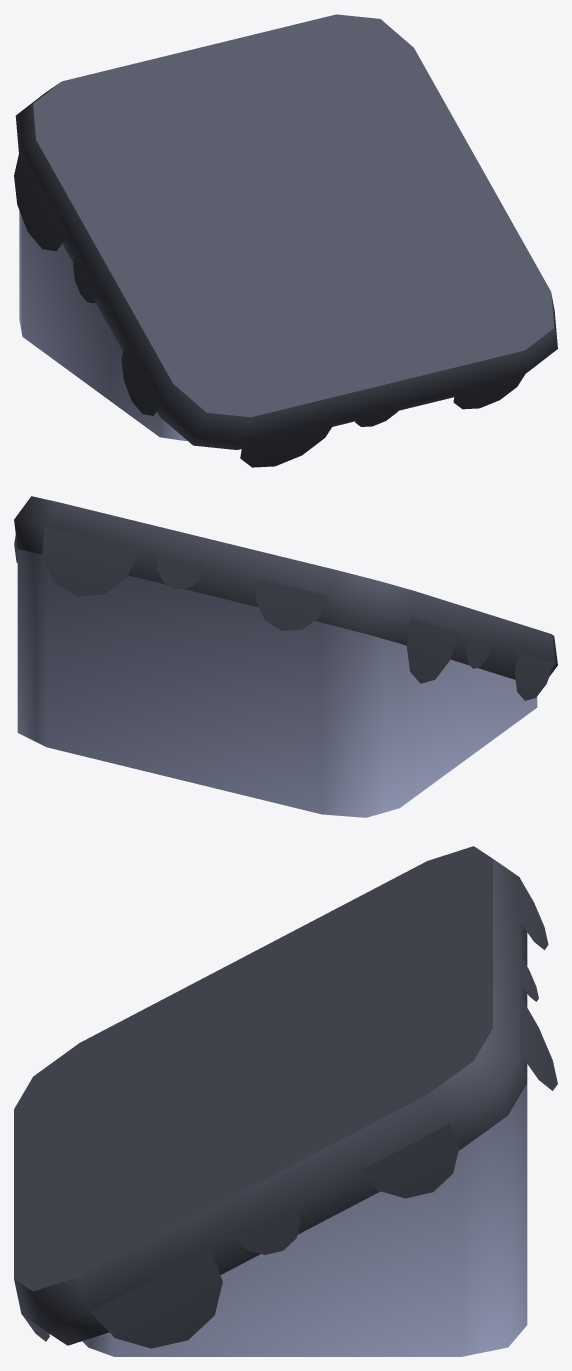
The model's file is block-snow-overhang-large-slope-steep.glb.
3 views of the same model, one above another, from view 1: azimuth 30°, elevation 25°; view 2: azimuth 150°, elevation 25°; view 3: azimuth 270°, elevation 25° (orthographic). The views are drawn at different scales.
Parts seen in each view (by area): view 1: block-snow-overhang-large-slope-steep; view 2: block-snow-overhang-large-slope-steep; view 3: block-snow-overhang-large-slope-steep.
Boxes of the visible parts, x1=… form: block-snow-overhang-large-slope-steep: x1=14, y1=14, x2=557, y2=467; block-snow-overhang-large-slope-steep: x1=14, y1=496, x2=557, y2=817; block-snow-overhang-large-slope-steep: x1=14, y1=846, x2=557, y2=1356.
Bounding box in the file's own units: 2.08 × 1.37 × 1.97.
